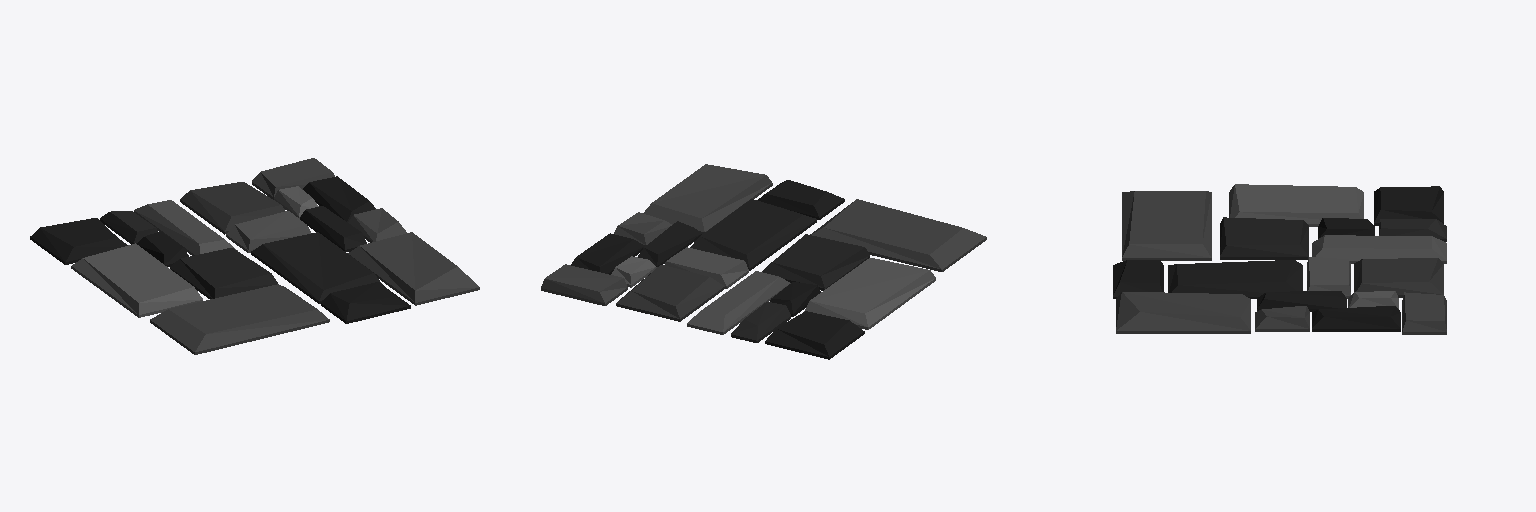
File: Path.obj
The picture shows the model from 3 angles: view 1: azimuth 30°, elevation 25°; view 2: azimuth 150°, elevation 25°; view 3: azimuth 270°, elevation 25°; orthographic projection.
Parts seen in each view (by area): view 1: Cube.012, Cube.013, Cube.008, Cube.003, Cube.011, Cube.009, Cube.007, Cube.018, Cube.002, Cube.010, Cube.015, Cube.005 (+5 smaller); view 2: Cube.012, Cube.013, Cube.008, Cube.003, Cube.009, Cube.011, Cube.007, Cube.018, Cube.005, Cube.002, Cube.010, Cube.015 (+5 smaller); view 3: Cube.012, Cube.008, Cube.013, Cube.003, Cube.011, Cube.009, Cube.018, Cube.007, Cube.015, Cube.005, Cube.002, Cube.010 (+5 smaller).
Boxes of the visible parts, x1=… form: Cube.012: x1=150, y1=284, x2=329, y2=354; Cube.013: x1=71, y1=243, x2=202, y2=317; Cube.008: x1=348, y1=232, x2=479, y2=305; Cube.003: x1=251, y1=232, x2=382, y2=303; Cube.011: x1=170, y1=248, x2=277, y2=298; Cube.009: x1=180, y1=182, x2=284, y2=234; Cube.007: x1=30, y1=218, x2=127, y2=264; Cube.018: x1=134, y1=200, x2=237, y2=255; Cube.002: x1=321, y1=282, x2=410, y2=323; Cube.010: x1=226, y1=211, x2=310, y2=252; Cube.015: x1=303, y1=176, x2=375, y2=221; Cube.005: x1=252, y1=158, x2=334, y2=199; Cube.012: x1=810, y1=199, x2=986, y2=271; Cube.013: x1=804, y1=258, x2=935, y2=329; Cube.008: x1=643, y1=164, x2=772, y2=233; Cube.003: x1=690, y1=199, x2=816, y2=270; Cube.009: x1=616, y1=265, x2=724, y2=321; Cube.011: x1=762, y1=234, x2=869, y2=290; Cube.007: x1=765, y1=311, x2=864, y2=359; Cube.018: x1=687, y1=271, x2=790, y2=334; Cube.005: x1=541, y1=264, x2=627, y2=305; Cube.002: x1=758, y1=180, x2=844, y2=219; Cube.010: x1=665, y1=247, x2=748, y2=288; Cube.015: x1=571, y1=233, x2=644, y2=274; Cube.012: x1=1122, y1=191, x2=1211, y2=260; Cube.008: x1=1116, y1=292, x2=1250, y2=333; Cube.013: x1=1229, y1=184, x2=1363, y2=226; Cube.003: x1=1168, y1=260, x2=1302, y2=298; Cube.011: x1=1220, y1=217, x2=1308, y2=259; Cube.009: x1=1354, y1=258, x2=1443, y2=297; Cube.018: x1=1312, y1=235, x2=1446, y2=263; Cube.007: x1=1374, y1=186, x2=1443, y2=225; Cube.015: x1=1312, y1=306, x2=1400, y2=331; Cube.005: x1=1402, y1=292, x2=1446, y2=334; Cube.002: x1=1113, y1=260, x2=1163, y2=298; Cube.010: x1=1307, y1=257, x2=1350, y2=298.
Bounding box in the file's own units: 1.98 × 0.1139 × 2.